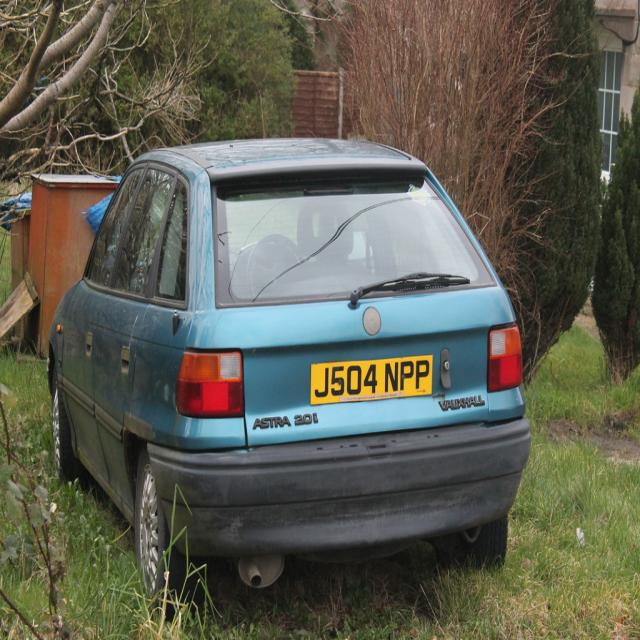car: (37, 125, 522, 607)
